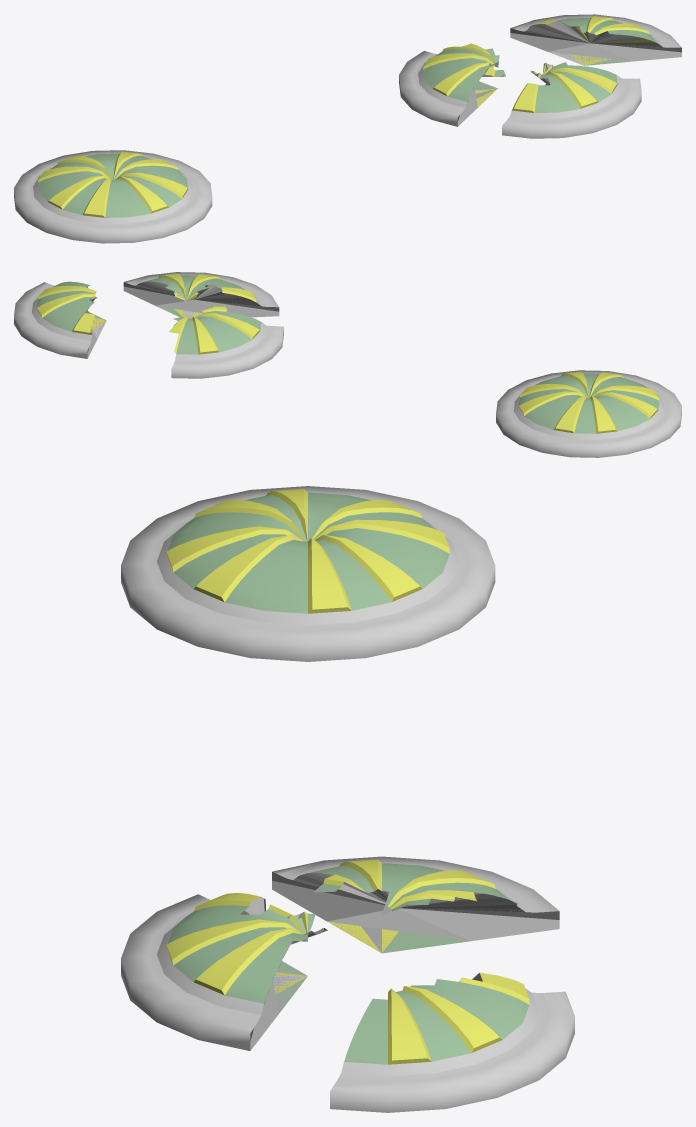
Rendered from wholeplate.fbx.
The picture shows the model from 3 angles, top to bottom: view 1: azimuth 30°, elevation 25°; view 2: azimuth 150°, elevation 25°; view 3: azimuth 270°, elevation 25°; orthographic projection. The views are drawn at different scales.
Visible parts, largest first — view 1: pasted__pCylinder2, pasted__pCylinder3; view 2: pasted__pCylinder2, pasted__pCylinder3; view 3: pasted__pCylinder2, pasted__pCylinder3.
Boxes of the visible parts, left/top/right/bottom form: pasted__pCylinder2: left=399, top=14, right=681, bottom=138; pasted__pCylinder3: left=14, top=150, right=212, bottom=243; pasted__pCylinder2: left=14, top=272, right=283, bottom=378; pasted__pCylinder3: left=496, top=370, right=681, bottom=457; pasted__pCylinder2: left=121, top=856, right=574, bottom=1112; pasted__pCylinder3: left=121, top=486, right=495, bottom=661.
Size of what is drawn, in the model's own units: 26.58 by 1.18 by 8.37.
